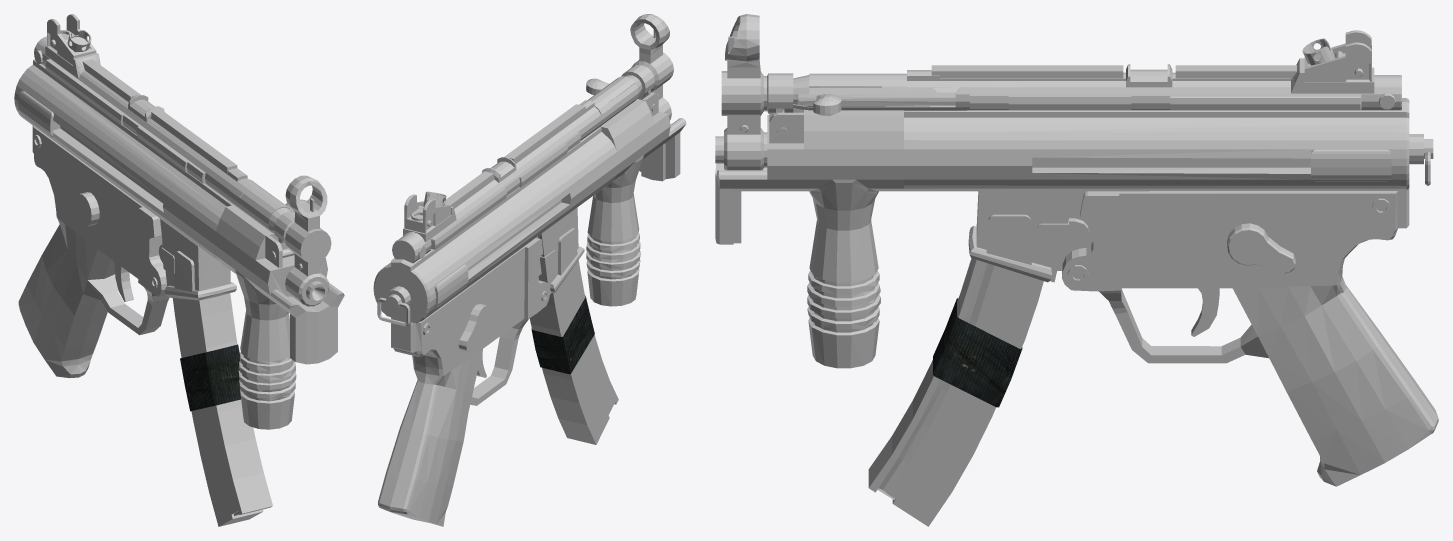
The picture shows the model from 3 angles, left to right: view 1: azimuth 30°, elevation 25°; view 2: azimuth 150°, elevation 25°; view 3: azimuth 270°, elevation 25°; orthographic projection. The views are drawn at different scales.
Parts seen in each view (by area): view 1: MP5K, Magazine, Wrap, Rear_Sight, Trigger; view 2: MP5K, Magazine, Wrap, Rear_Sight; view 3: MP5K, Magazine, Wrap, Rear_Sight, Bolt, Trigger.
Part boxes in pixels (bbox=[...]): MP5K: bbox=[14, 36, 344, 429]; Magazine: bbox=[172, 293, 272, 526]; Wrap: bbox=[180, 344, 240, 411]; Rear_Sight: bbox=[45, 14, 100, 78]; Trigger: bbox=[114, 262, 133, 301]; MP5K: bbox=[373, 14, 686, 526]; Magazine: bbox=[529, 260, 618, 444]; Wrap: bbox=[531, 295, 594, 374]; Rear_Sight: bbox=[403, 191, 456, 249]; MP5K: bbox=[715, 14, 1438, 486]; Magazine: bbox=[868, 258, 1043, 526]; Wrap: bbox=[933, 298, 1022, 407]; Rear_Sight: bbox=[1291, 30, 1374, 97]; Bolt: bbox=[798, 87, 959, 115]; Trigger: bbox=[1191, 288, 1219, 336].
Size of the model in its own units: 1.8 by 10.27 by 13.43.
